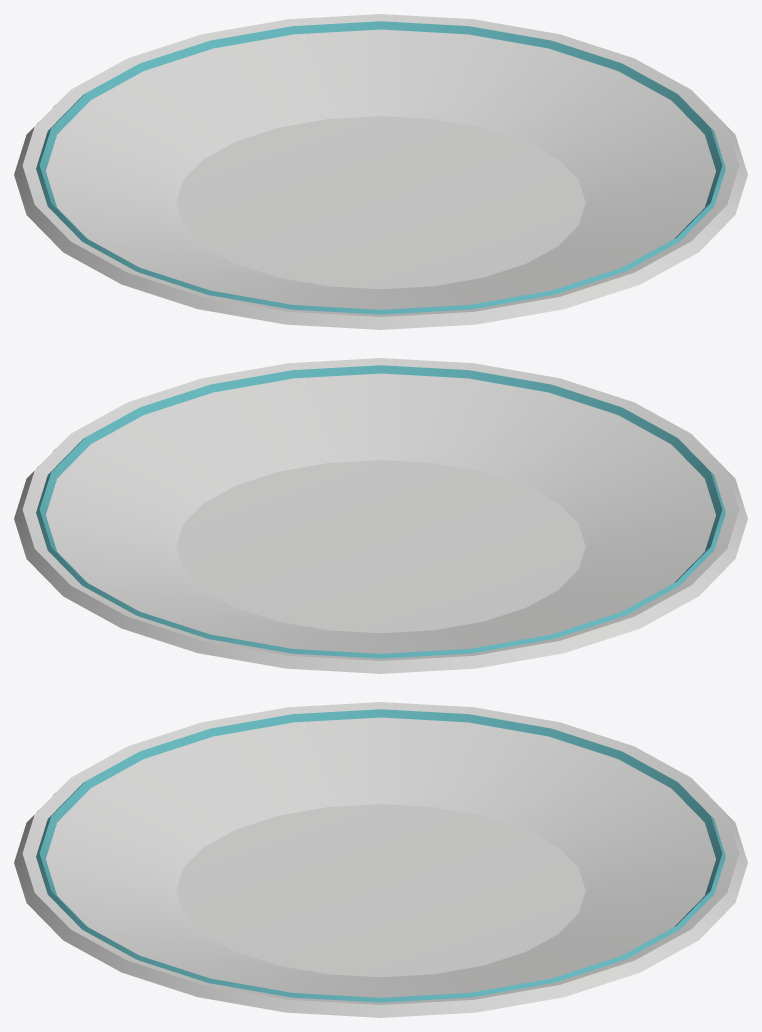
File: kr_plate.glb
3 renders of one model, top to bottom at view 1: azimuth 30°, elevation 25°; view 2: azimuth 150°, elevation 25°; view 3: azimuth 270°, elevation 25°, orthographic.
Parts seen in each view (by area): view 1: vc_m0_r2, vc_m0_r4; view 2: vc_m0_r2, vc_m0_r4; view 3: vc_m0_r2, vc_m0_r4.
Part boxes in pixels (<box>): vc_m0_r2: <box>14,14,747,329</box>; vc_m0_r4: <box>36,21,725,314</box>; vc_m0_r2: <box>14,358,747,673</box>; vc_m0_r4: <box>36,365,725,658</box>; vc_m0_r2: <box>14,702,747,1017</box>; vc_m0_r4: <box>36,709,725,1002</box>.
Size of the model in its own units: 0.43 by 0.042 by 0.43.
